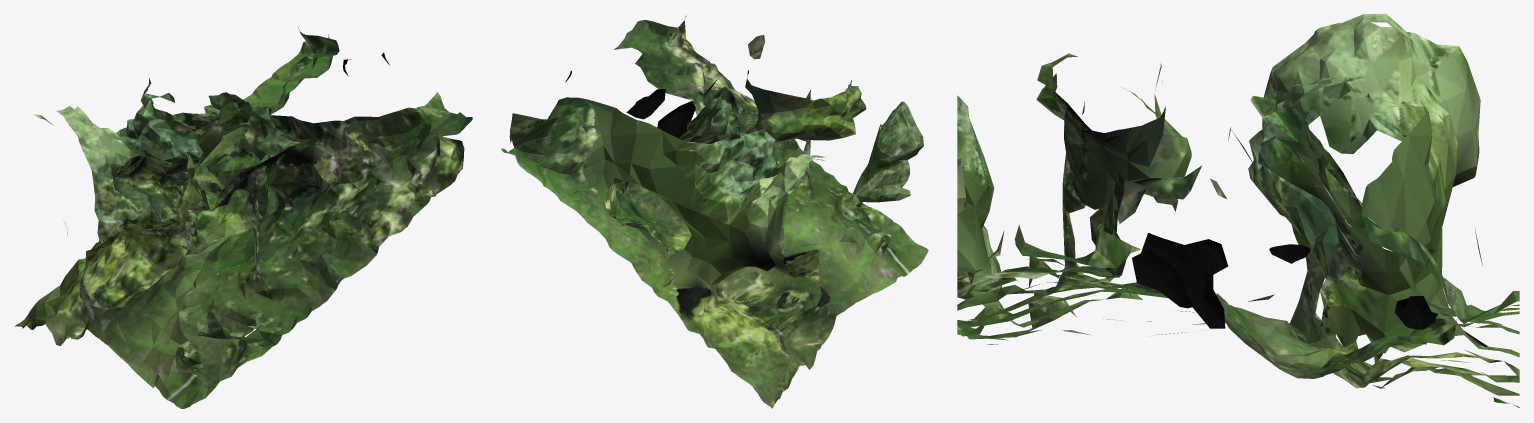
3 renders of one model, left to right at view 1: azimuth 30°, elevation 25°; view 2: azimuth 150°, elevation 25°; view 3: azimuth 270°, elevation 25°, orthographic. The views are drawn at different scales.
Size of the model in its own units: 26.11 by 20.36 by 26.11.
6 materials, 6 textured.
